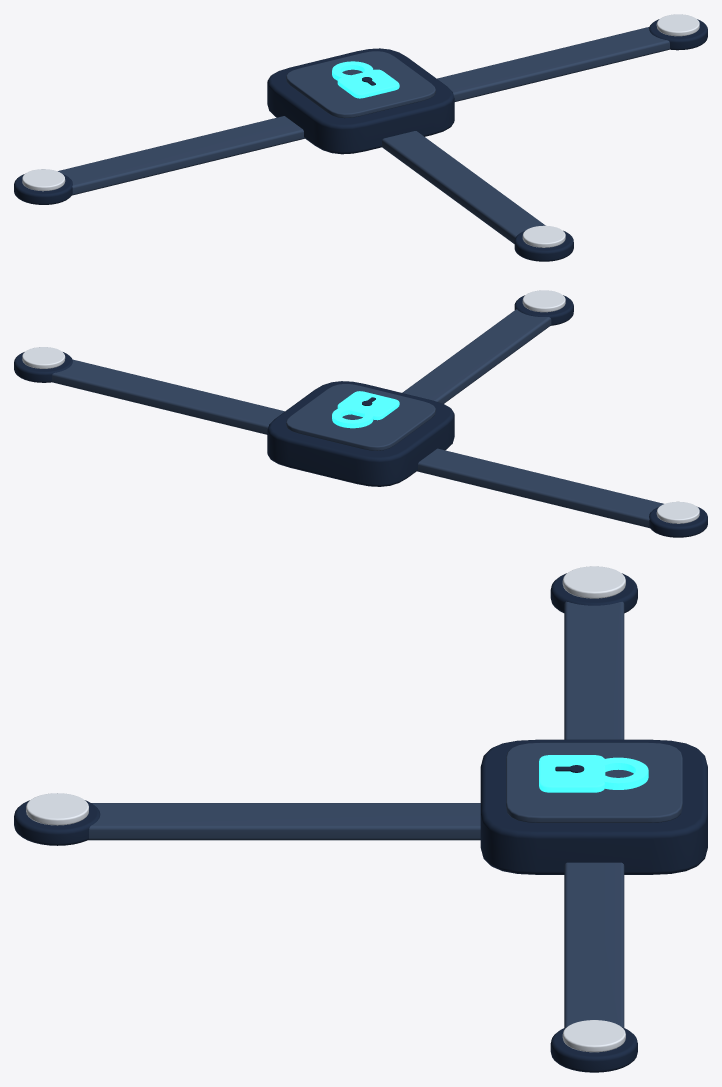
The model's file is AFJ_Lock_T.fbx.
The picture shows the model from 3 angles, top to bottom: view 1: azimuth 30°, elevation 25°; view 2: azimuth 150°, elevation 25°; view 3: azimuth 270°, elevation 25°; orthographic projection. The views are drawn at different scales.
Visible parts, largest first — view 1: Lock_Housing.003, Strap.007, Strap.008, Strap.009, Lock_Face.003, Lock_Icon_Body.003, Anchor_Base.009, Anchor_Base.007, Anchor_Base.008, Anchor_Cap.008, Anchor_Cap.009, Anchor_Cap.007 (+1 smaller); view 2: Lock_Housing.003, Strap.007, Strap.008, Lock_Face.003, Strap.009, Lock_Icon_Body.003, Anchor_Base.007, Anchor_Base.008, Anchor_Cap.009, Anchor_Cap.007, Anchor_Cap.008, Anchor_Base.009 (+1 smaller); view 3: Lock_Housing.003, Strap.009, Lock_Face.003, Strap.008, Strap.007, Lock_Icon_Body.003, Anchor_Base.008, Anchor_Base.009, Anchor_Cap.007, Anchor_Cap.008, Anchor_Cap.009, Anchor_Base.007 (+1 smaller).
Boxes of the visible parts, x1,y1,x2,y2 form: Lock_Housing.003: (267,48,454,154); Strap.007: (58,116,304,195); Strap.008: (437,27,669,101); Strap.009: (382,131,545,243); Lock_Face.003: (286,51,435,118); Lock_Icon_Body.003: (337,69,399,98); Anchor_Base.009: (514,230,573,261); Anchor_Base.007: (14,174,72,204); Anchor_Base.008: (649,19,707,50); Anchor_Cap.008: (656,14,699,36); Anchor_Cap.009: (522,225,565,247); Anchor_Cap.007: (22,169,65,191); Lock_Housing.003: (267,381,454,486); Strap.007: (417,448,663,528); Strap.008: (52,359,284,434); Lock_Face.003: (286,384,435,450); Strap.009: (402,309,551,403); Lock_Icon_Body.003: (337,391,399,420); Anchor_Base.007: (649,507,707,537); Anchor_Base.008: (14,352,72,382); Anchor_Cap.009: (522,290,565,312); Anchor_Cap.007: (656,501,699,523); Anchor_Cap.008: (22,347,65,368); Anchor_Base.009: (514,295,573,325); Lock_Housing.003: (480,739,707,874); Strap.009: (88,803,480,840); Lock_Face.003: (506,742,682,822); Strap.008: (564,862,624,1027); Strap.007: (564,601,624,739); Lock_Icon_Body.003: (539,755,605,792); Anchor_Base.008: (550,1027,637,1072); Anchor_Base.009: (14,800,100,845); Anchor_Cap.007: (562,566,625,598); Anchor_Cap.008: (562,1020,625,1052); Anchor_Cap.009: (26,793,88,825); Anchor_Base.007: (550,573,637,613).
Bounding box in the file's own units: 184 × 10.6 × 110.
